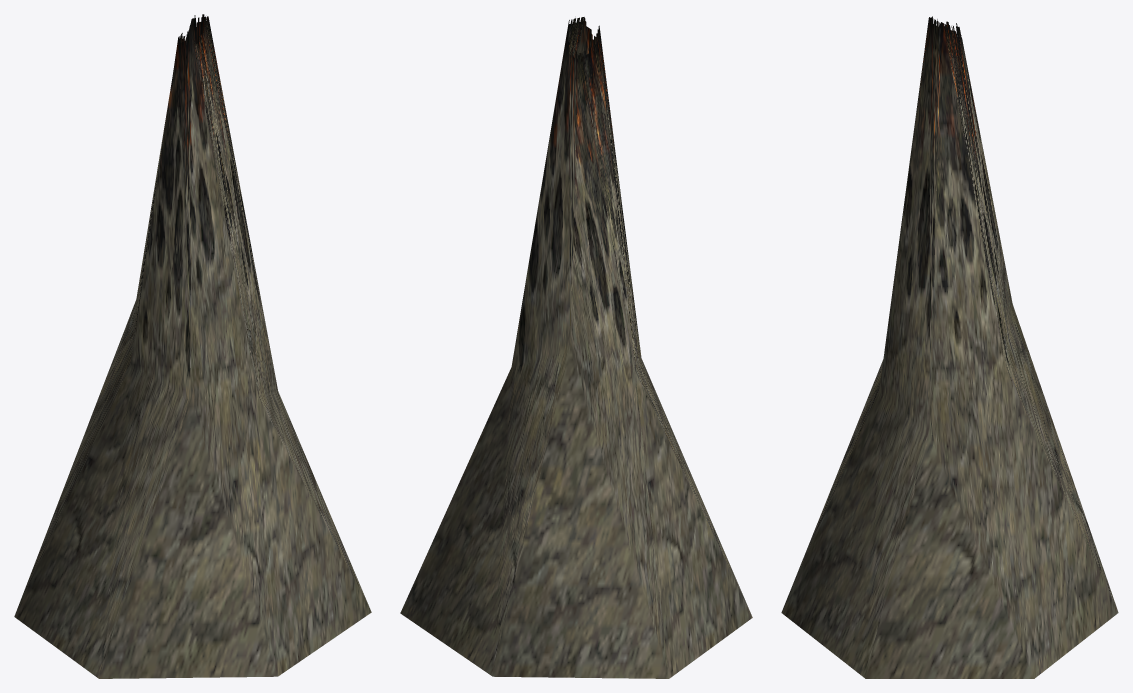
Rendered from volcanicventlargeoff01.glb.
The picture shows the model from 3 angles, left to right: view 1: azimuth 30°, elevation 25°; view 2: azimuth 150°, elevation 25°; view 3: azimuth 270°, elevation 25°; orthographic projection.
Size of the model in its own units: 2.36 by 4.98 by 2.54.
1 material, 1 textured.
